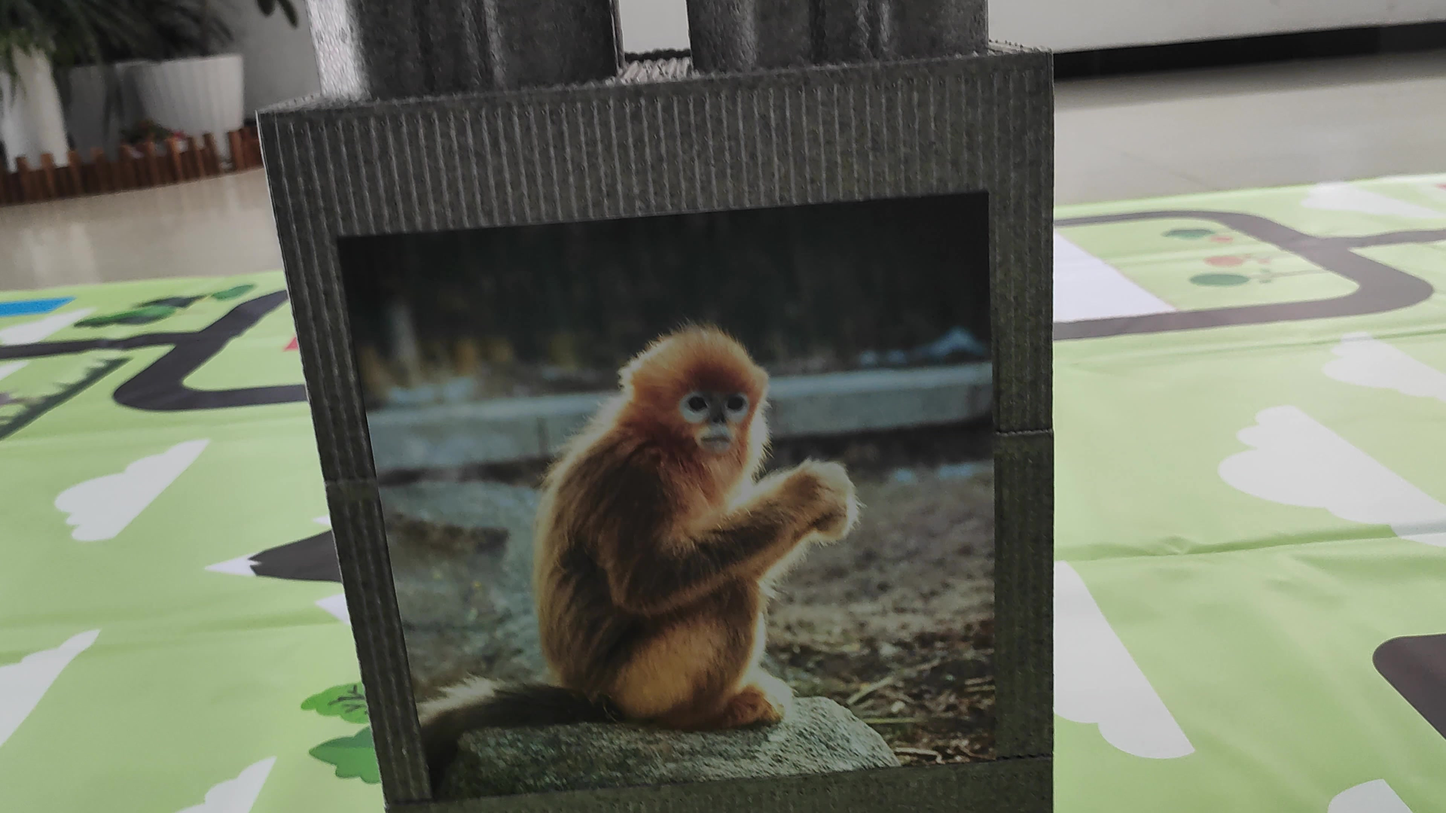monkey: (485, 292, 926, 728)
